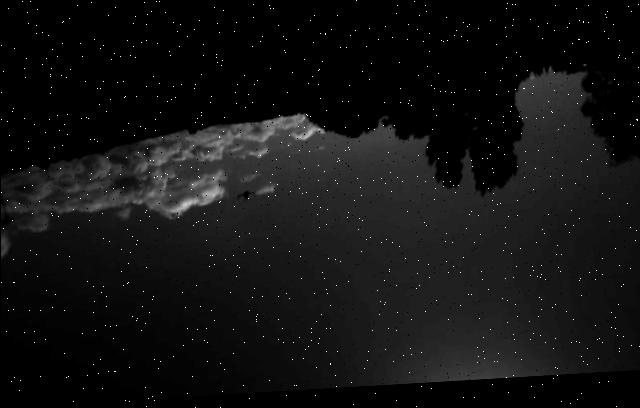drone: (222, 175, 268, 218)
